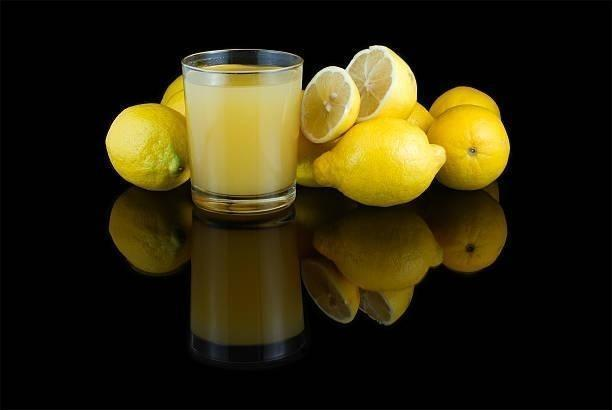glass-normal: (180, 47, 306, 215)
